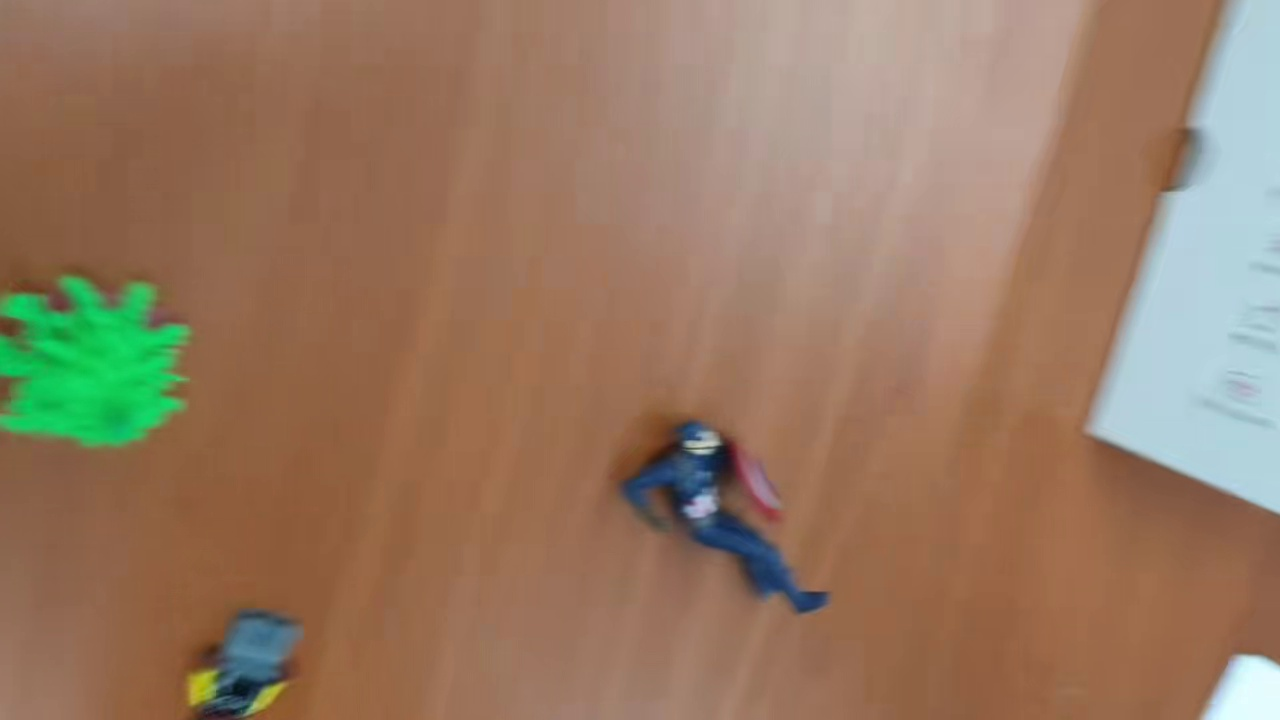people: (619, 425, 835, 616), (178, 609, 307, 720)
tree: (1, 265, 192, 451)
